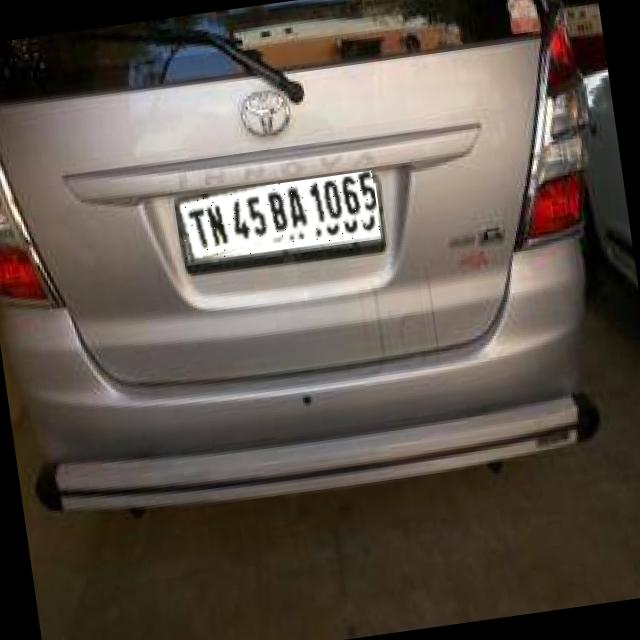Plate: (175, 172, 382, 265)
